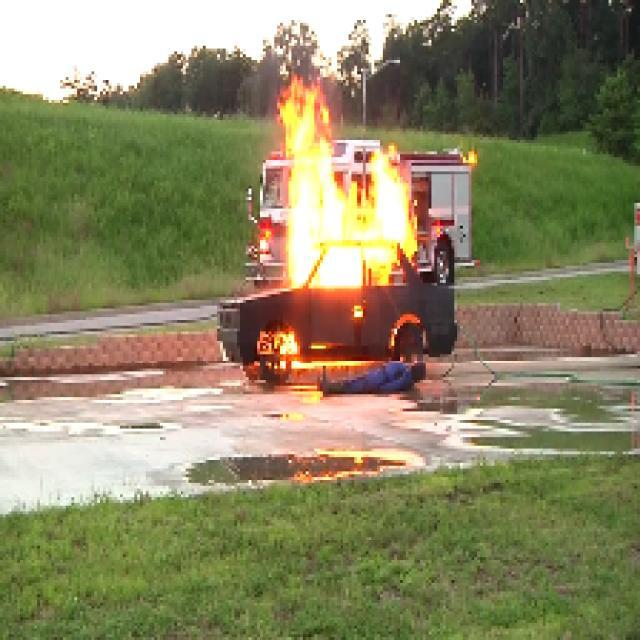Fire: (274, 99, 418, 285)
